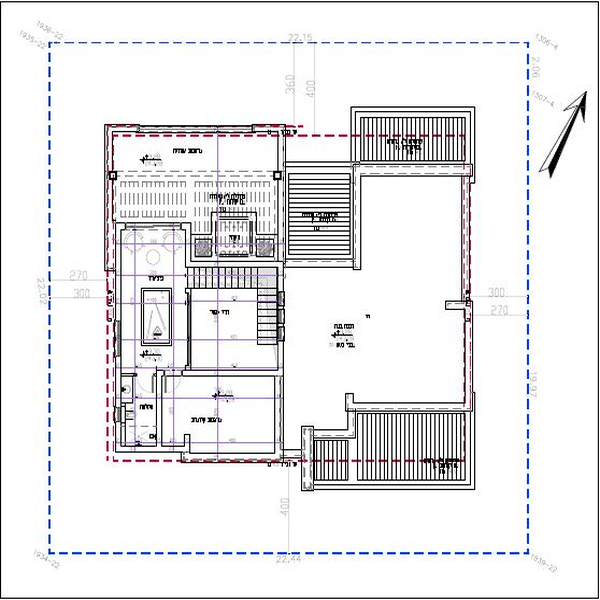room: (352, 160, 474, 411), (117, 372, 286, 461), (183, 262, 285, 374), (121, 221, 189, 375)
